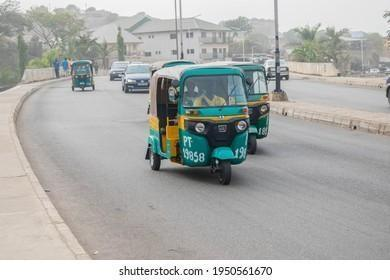keke: (146, 64, 250, 189), (242, 62, 274, 159), (70, 59, 96, 95)
